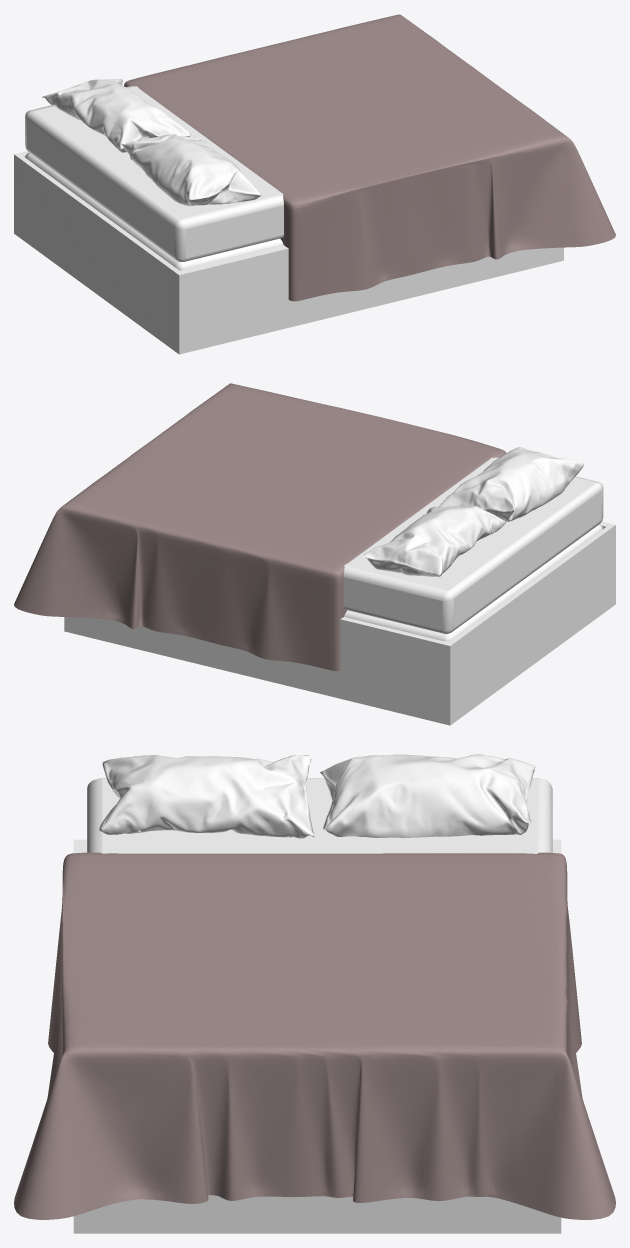
File: bed.obj
3 views of the same model, one above another, from view 1: azimuth 30°, elevation 25°; view 2: azimuth 150°, elevation 25°; view 3: azimuth 270°, elevation 25° (orthographic). The views are drawn at different scales.
Parts seen in each view (by area): view 1: Component_63_001, Group_003, Group_002, Travesseiro_002, Travesseiro_001, Group_001; view 2: Component_63_001, Group_003, Group_002, Travesseiro_002, Travesseiro_001, Group_001; view 3: Component_63_001, Group_003, Travesseiro_001, Travesseiro_002, Group_002.
Part boxes in pixels (x1,y1,x2,y2): Component_63_001: (124, 14, 615, 301); Group_003: (14, 151, 563, 354); Group_002: (25, 86, 283, 261); Travesseiro_002: (121, 134, 261, 205); Travesseiro_001: (42, 79, 191, 152); Group_001: (25, 152, 283, 270); Component_63_001: (14, 383, 506, 671); Group_003: (64, 521, 615, 725); Group_002: (343, 457, 603, 633); Travesseiro_002: (438, 447, 584, 521); Travesseiro_001: (363, 506, 506, 576); Group_001: (344, 524, 602, 641); Component_63_001: (14, 852, 615, 1219); Group_003: (73, 839, 561, 1233); Travesseiro_001: (320, 754, 535, 837); Travesseiro_002: (99, 755, 314, 838); Group_002: (87, 778, 552, 853).
Size of the model in its own units: 83.55 by 30.24 by 69.75.
